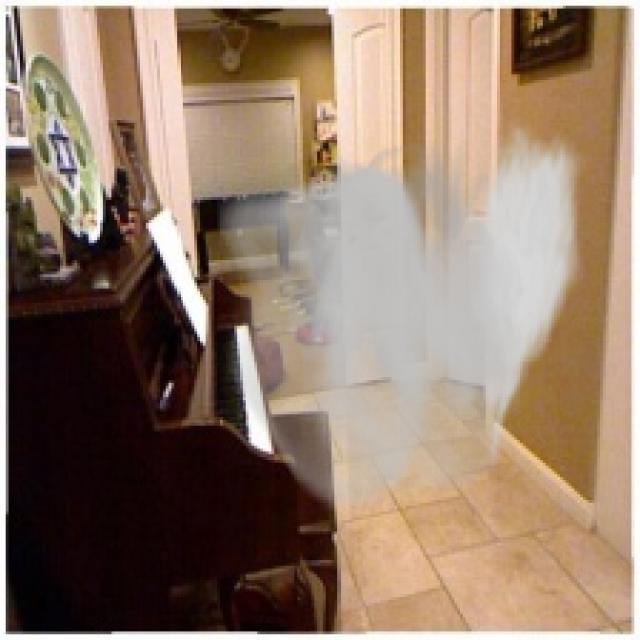Smoke: (217, 117, 586, 523)
